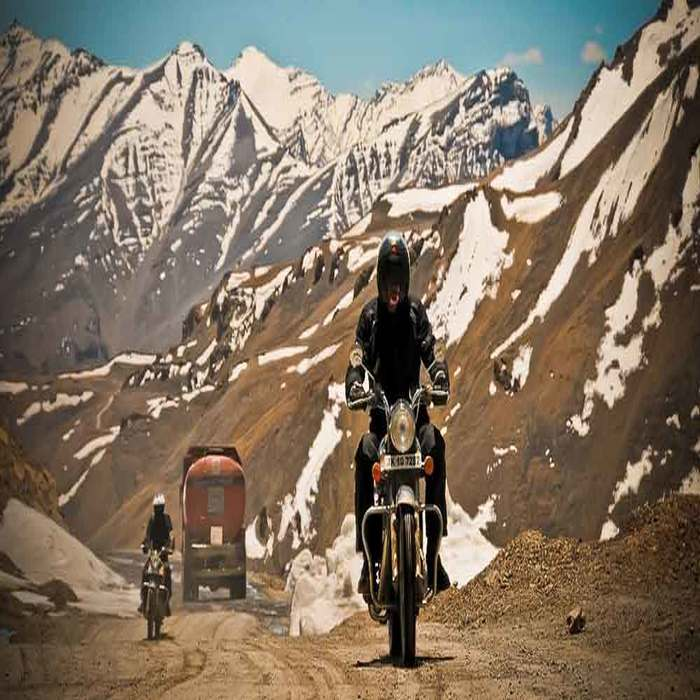h: (375, 233, 413, 297), (149, 491, 167, 519)
n: (378, 454, 424, 470)
